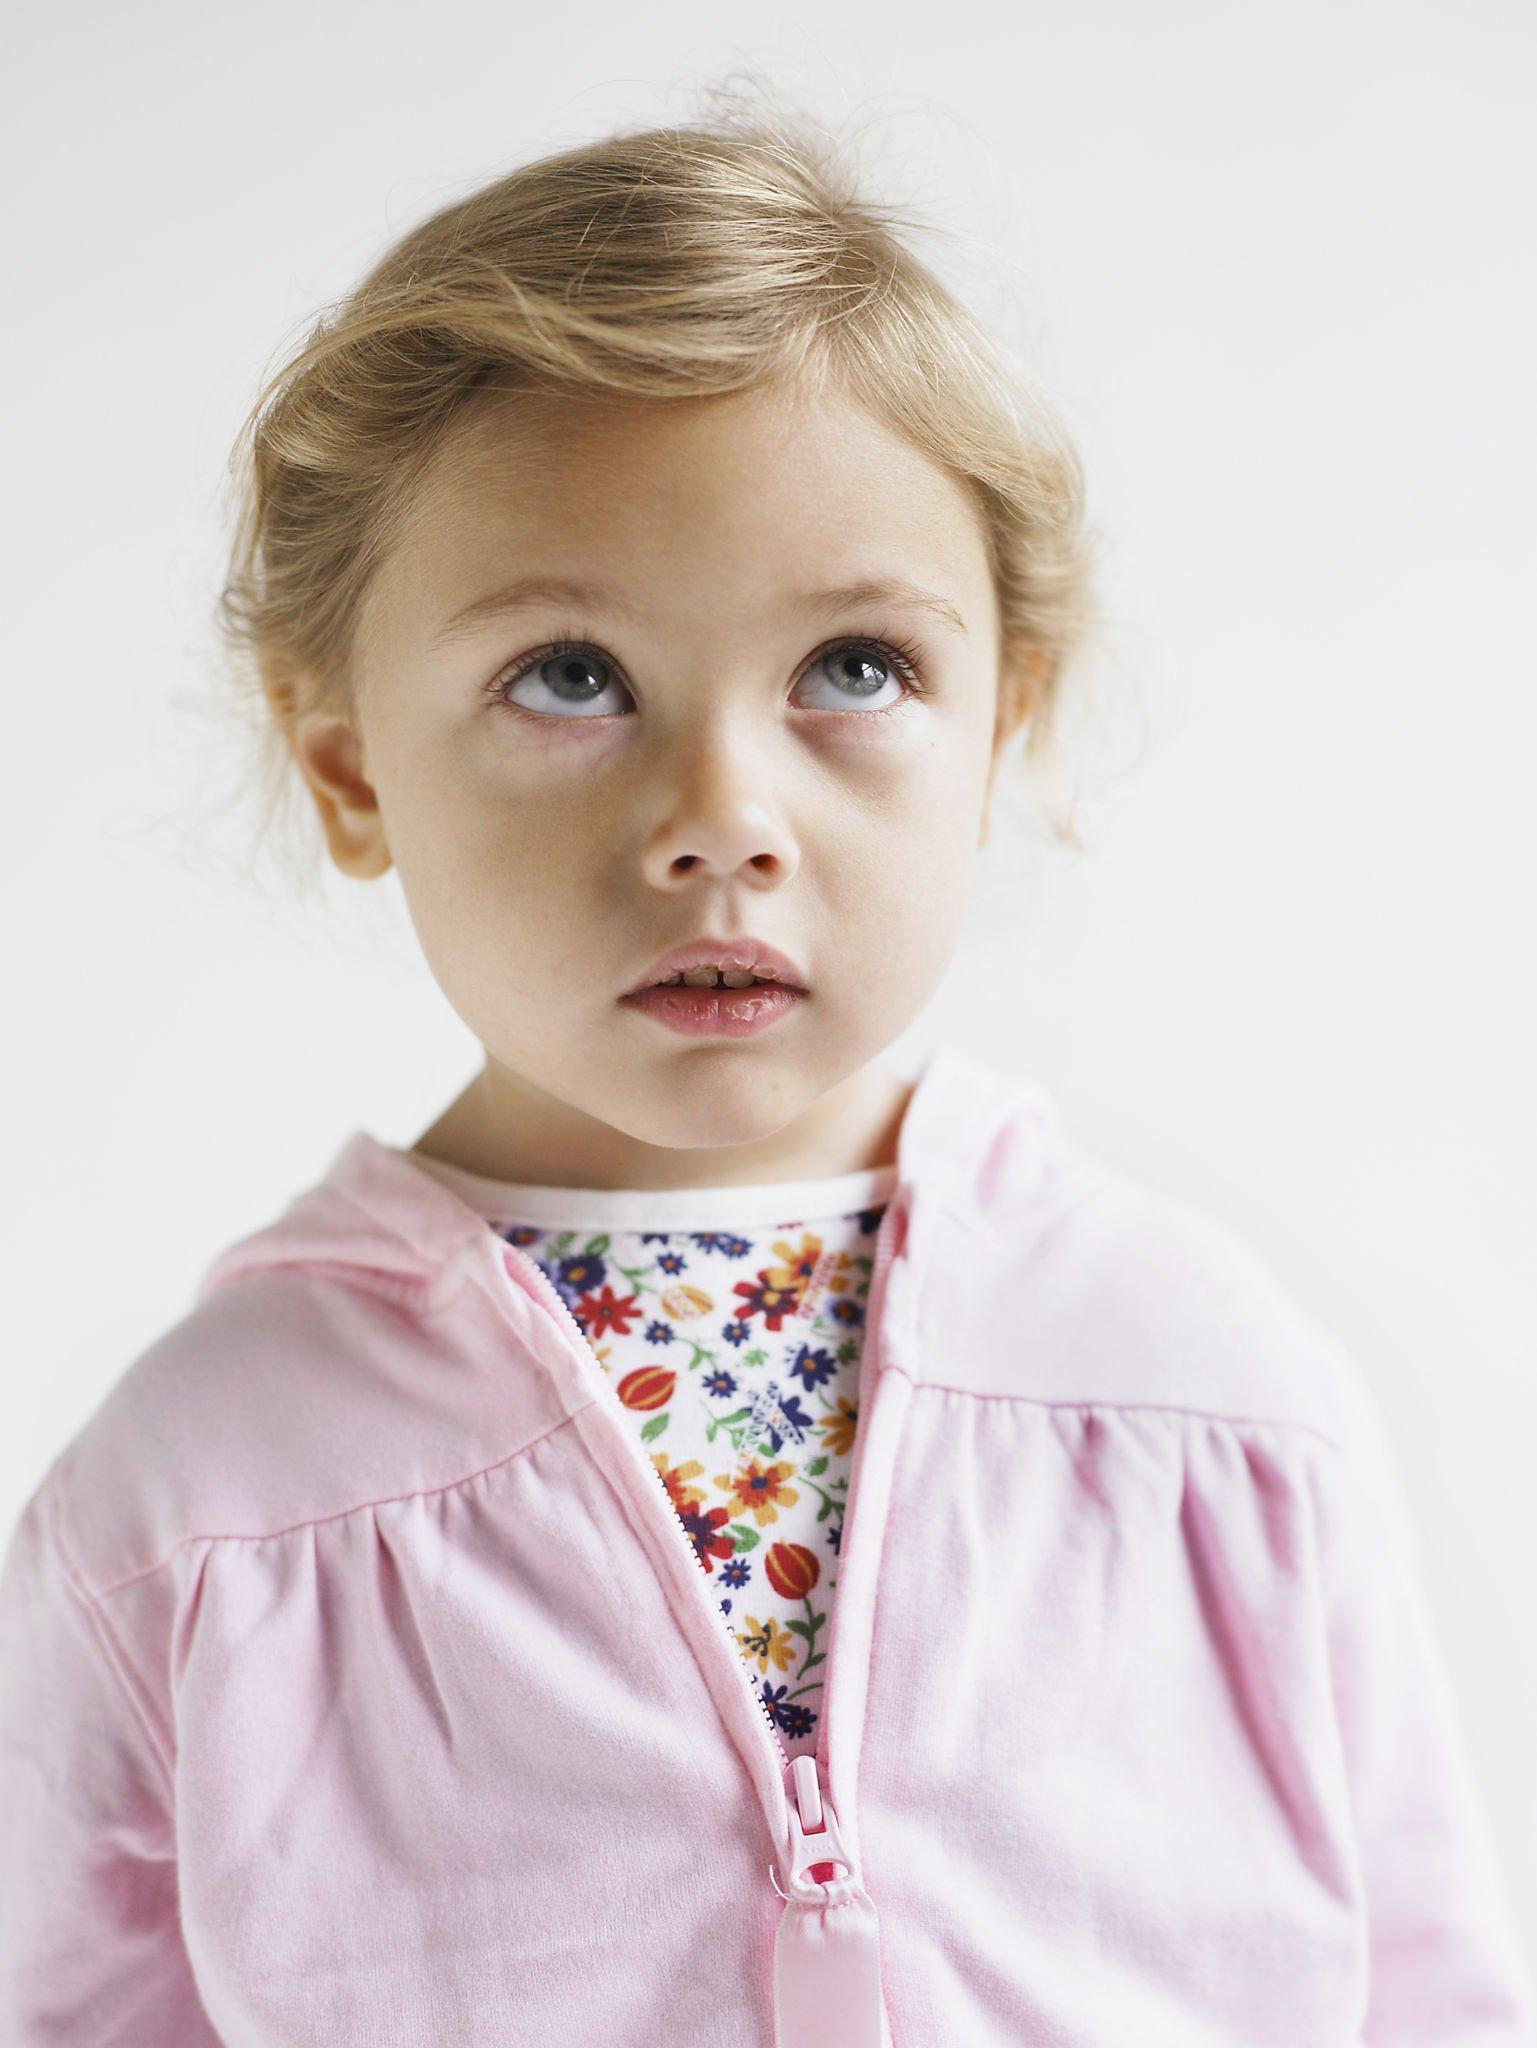Healthy: (207, 171, 1117, 1220)
